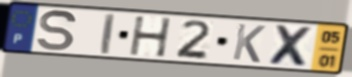2: (174, 19, 212, 61)
H: (129, 15, 175, 59)
I: (100, 11, 117, 56)
K: (230, 22, 268, 65)
S: (36, 8, 79, 53)
X: (266, 23, 316, 70)
